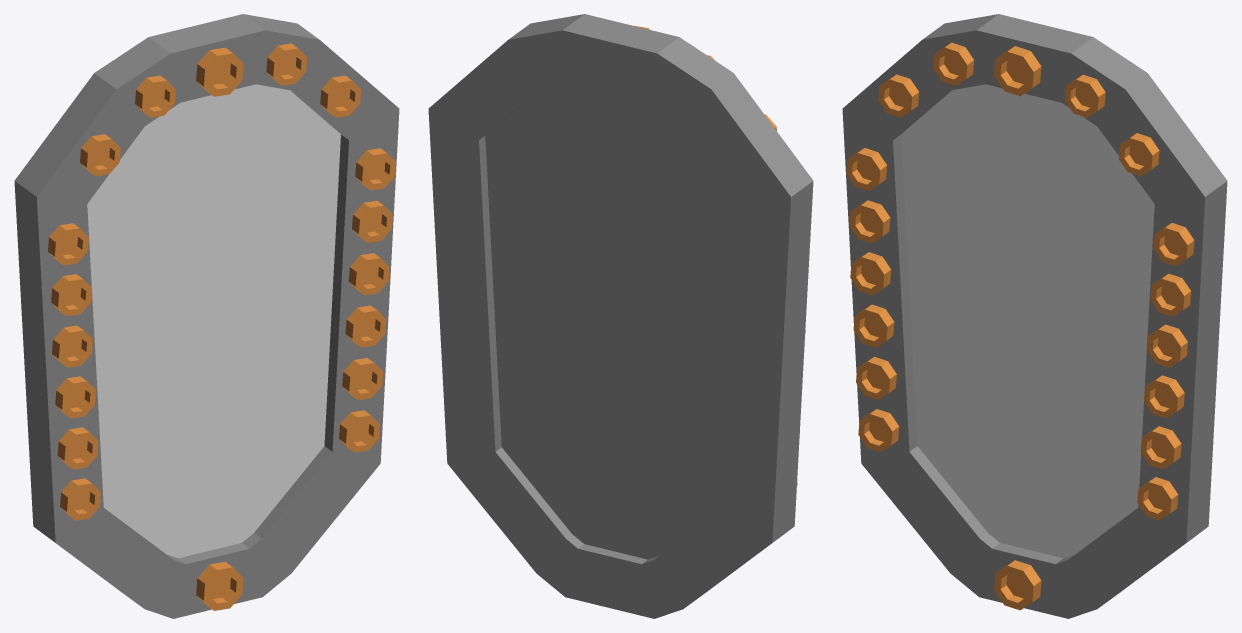
The model's file is Dev_Mirror.fbx.
The picture shows the model from 3 angles, left to right: view 1: azimuth 30°, elevation 25°; view 2: azimuth 150°, elevation 25°; view 3: azimuth 330°, elevation 25°; orthographic projection.
Visible parts, largest first — view 1: Dev_Mirror; view 2: Dev_Mirror; view 3: Dev_Mirror.
Part boxes in pixels (x1=…): Dev_Mirror: x1=14, y1=14, x2=399, y2=618; Dev_Mirror: x1=428, y1=14, x2=813, y2=618; Dev_Mirror: x1=842, y1=14, x2=1227, y2=618.
Size of the model in its own units: 144 by 215 by 20.71.
